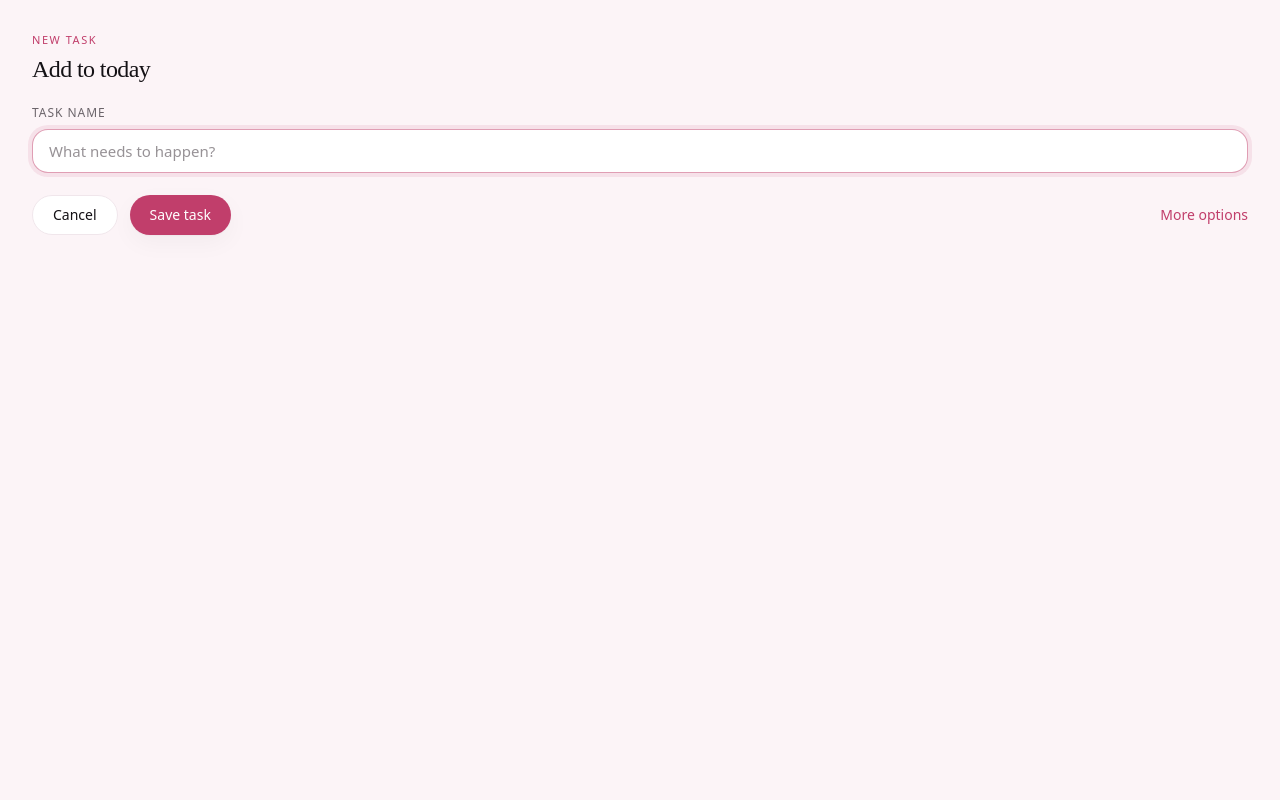
Test: TaskForm quick add › reveals optional planning fields on request
Click the button "More options" at {"x": 1204, "y": 214}, box left=1160, top=192, right=1248, bottom=236
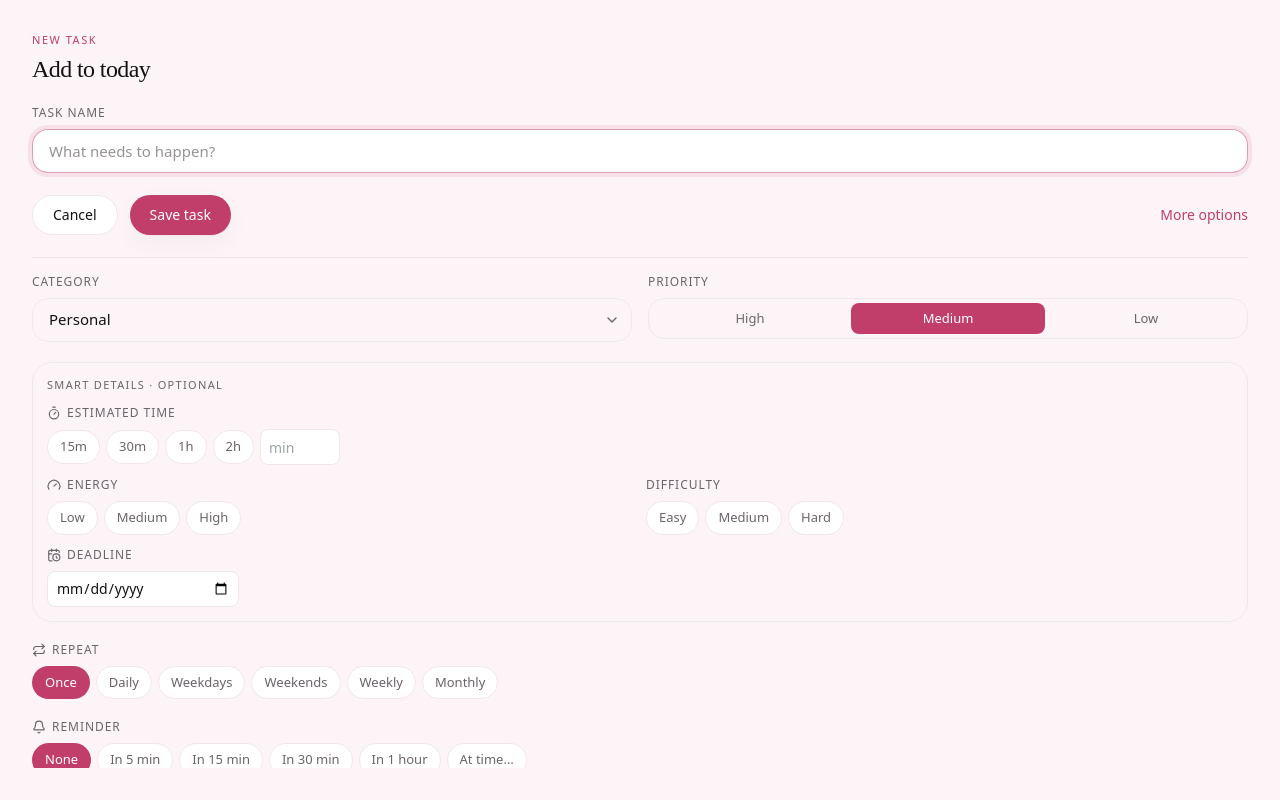
Result: the text "Estimated time" is shown at left=47, top=404, right=176, bottom=421
Result: the text "Repeat" is shown at left=32, top=640, right=99, bottom=658
